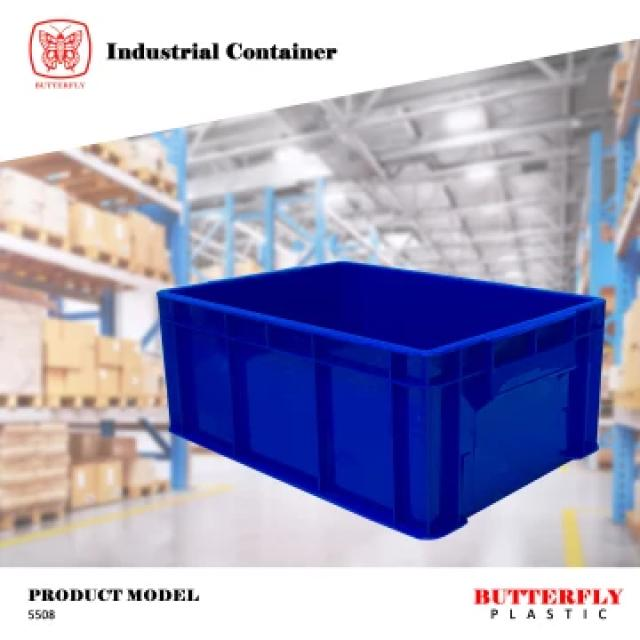basket: (130, 235, 621, 561)
